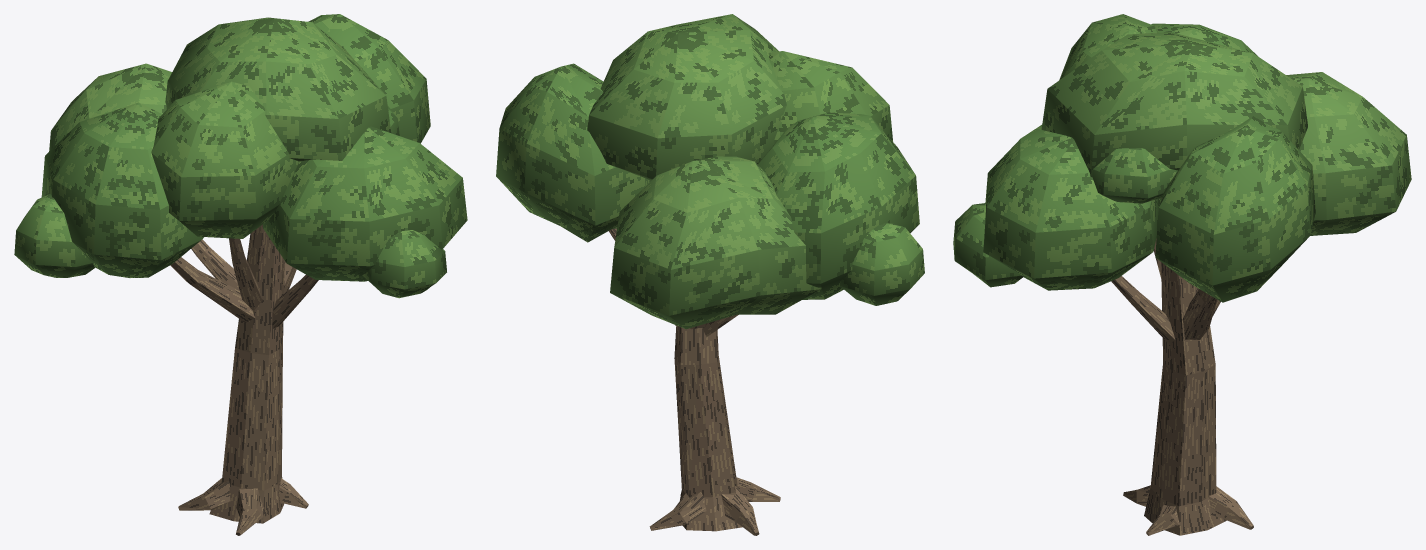
Rendered from t_tree.glb.
3 views of the same model, side by side, from view 1: azimuth 30°, elevation 25°; view 2: azimuth 150°, elevation 25°; view 3: azimuth 270°, elevation 25° (orthographic). The views are drawn at different scales.
Visible parts, largest first — view 1: t_tree_mesh; view 2: t_tree_mesh; view 3: t_tree_mesh.
Part boxes in pixels (box(x1,y1,x2,y2)): t_tree_mesh: box(14, 14, 467, 535); t_tree_mesh: box(496, 14, 924, 535); t_tree_mesh: box(953, 14, 1411, 535).
Size of the model in its own units: 3.6 by 4 by 3.4.
1 material, 1 textured.
